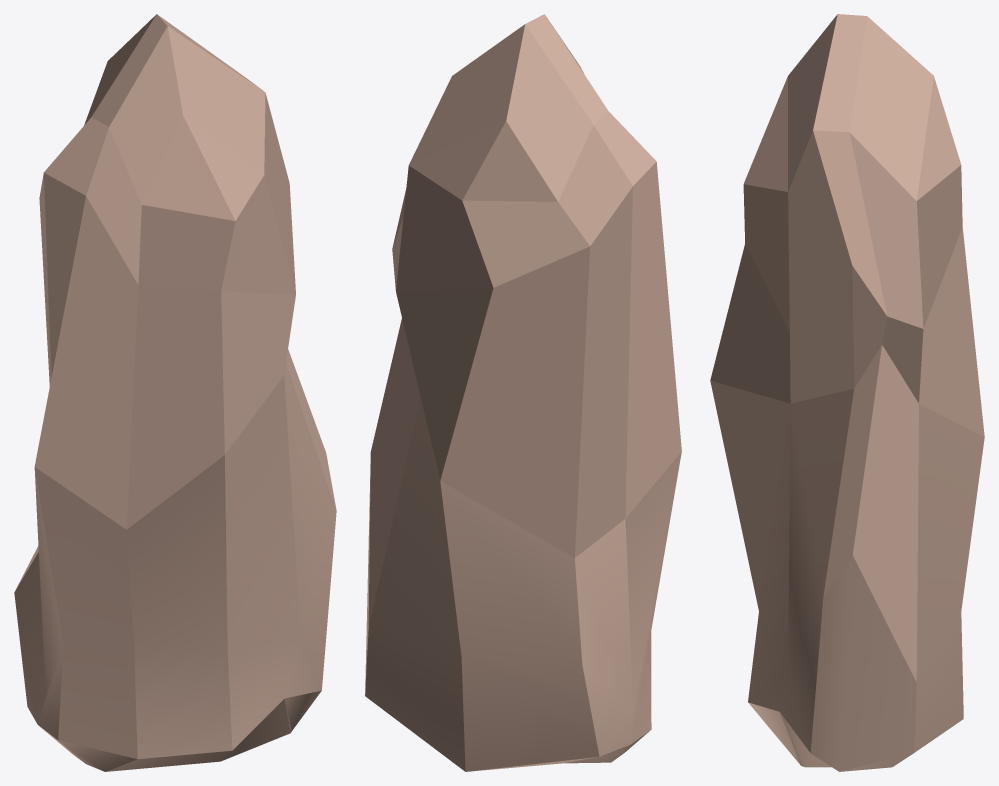
File: stalagVolcan1.fbx
The picture shows the model from 3 angles, left to right: view 1: azimuth 30°, elevation 25°; view 2: azimuth 150°, elevation 25°; view 3: azimuth 270°, elevation 25°; orthographic projection. The views are drawn at different scales.
Visible parts, largest first — view 1: stalagVolcan1; view 2: stalagVolcan1; view 3: stalagVolcan1.
Boxes of the visible parts, x1,y1,x2,y2 form: stalagVolcan1: (14,14,336,771); stalagVolcan1: (365,14,681,771); stalagVolcan1: (710,14,984,771).
Size of the model in its own units: 53.48 by 122 by 43.18.
